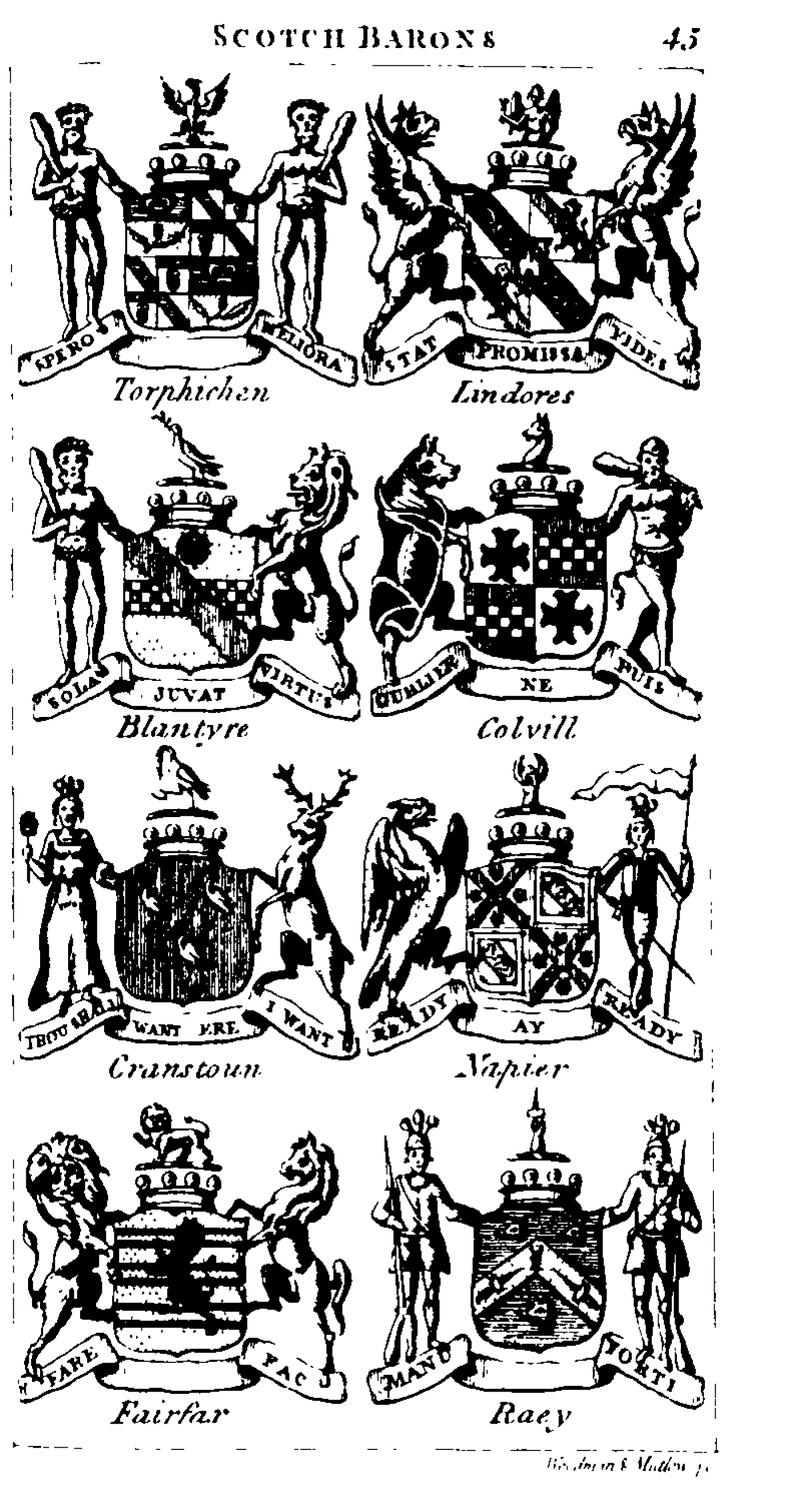coat_of_arms: (368, 1093, 716, 1448), (10, 66, 355, 421), (14, 1087, 357, 1441), (355, 69, 701, 413), (14, 742, 364, 1079), (13, 413, 368, 745), (363, 748, 714, 1083), (368, 413, 709, 743)
